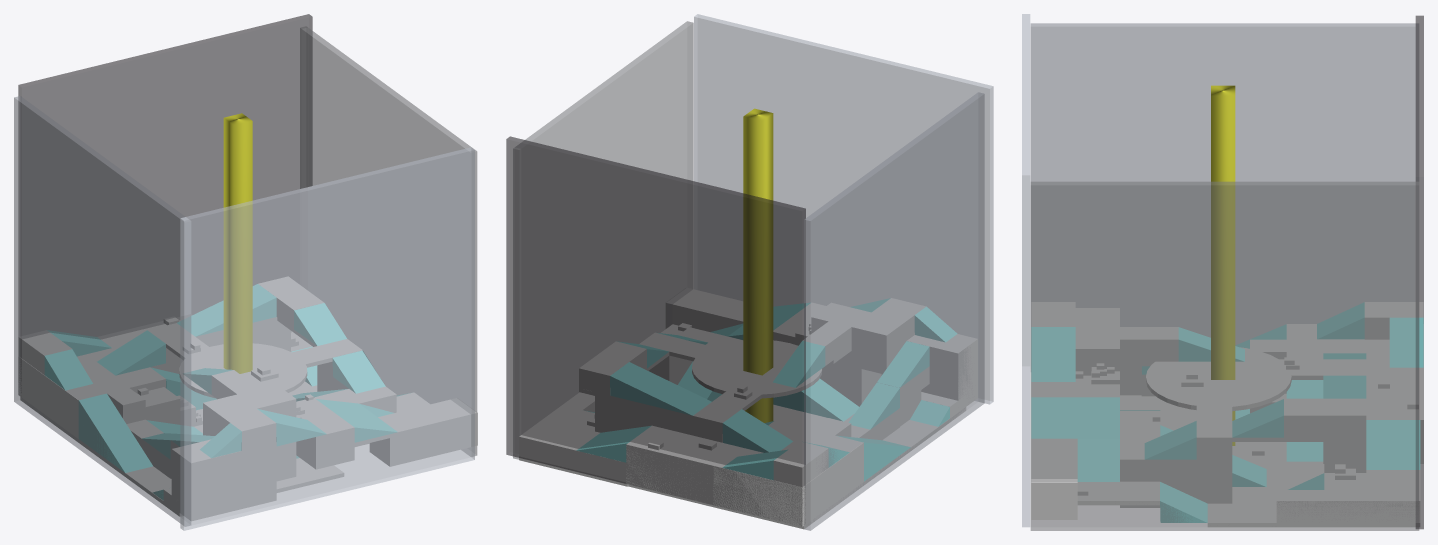
File: level_whitebox_col.glb
The picture shows the model from 3 angles, left to right: view 1: azimuth 30°, elevation 25°; view 2: azimuth 150°, elevation 25°; view 3: azimuth 270°, elevation 25°; orthographic projection. The views are drawn at different scales.
Parts seen in each view (by area): view 1: col_平台.022, col_平台.014, col_平台.008, col_平台.020, col_平台, col_平台.050, col_平台.031, col_平台.082, ramp_平台.011, colcyl_平台, col_平台.057, col_平台.059 (+25 smaller); view 2: col_平台.014, col_平台.022, col_平台.008, col_平台.020, col_平台, col_平台.082, col_平台.058, col_平台.028, colcyl_平台, col_平台.050, col_平台.059, col_平台.060 (+26 smaller); view 3: col_平台.020, col_平台.008, col_平台, colcyl_平台, col_平台.028, col_平台.022, col_平台.014, col_平台.006, col_平台.031, ramp_平台.006, col_平台.009, col_平台.055 (+32 smaller).
Part boxes in pixels (left/top/right/bottom): col_平台.022: left=180, top=147, right=474, bottom=530; col_平台.014: left=18, top=14, right=312, bottom=380; col_平台.008: left=14, top=96, right=190, bottom=526; col_平台.020: left=300, top=26, right=477, bottom=456; col_平台: left=223, top=113, right=252, bottom=373; col_平台.050: left=172, top=439, right=276, bottom=520; col_平台.031: left=370, top=398, right=477, bottom=466; col_平台.082: left=18, top=335, right=165, bottom=438; ramp_平台.011: left=79, top=394, right=152, bottom=472; colcyl_平台: left=179, top=343, right=306, bottom=397; col_平台.057: left=296, top=399, right=354, bottom=469; col_平台.059: left=203, top=397, right=275, bottom=450; col_平台.014: left=506, top=136, right=805, bottom=525; col_平台.022: left=694, top=14, right=993, bottom=404; col_平台.008: left=804, top=92, right=984, bottom=530; col_平台.020: left=513, top=21, right=693, bottom=459; col_平台: left=743, top=108, right=773, bottom=422; col_平台.082: left=713, top=421, right=863, bottom=526; col_平台.058: left=626, top=426, right=737, bottom=504; col_平台.028: left=519, top=405, right=628, bottom=486; colcyl_平台: left=692, top=340, right=821, bottom=397; col_平台.050: left=882, top=334, right=977, bottom=407; col_平台.059: left=852, top=298, right=925, bottom=373; col_平台.060: left=811, top=303, right=881, bottom=406; col_平台.020: left=1030, top=181, right=1419, bottom=530; col_平台.008: left=1030, top=23, right=1418, bottom=344; col_平台: left=1211, top=85, right=1235, bottom=445; colcyl_平台: left=1146, top=347, right=1291, bottom=410; col_平台.028: left=1324, top=470, right=1420, bottom=526; col_平台.022: left=1022, top=14, right=1030, bottom=527; col_平台.014: left=1415, top=15, right=1423, bottom=529; col_平台.006: left=1207, top=469, right=1418, bottom=527; col_平台.031: left=1031, top=439, right=1077, bottom=519; ramp_平台.006: left=1031, top=397, right=1119, bottom=438; col_平台.009: left=1284, top=399, right=1365, bottom=437; col_平台.055: left=1197, top=421, right=1231, bottom=503.
Bounding box in the file's own units: 81.49 × 83.5 × 82.71.
